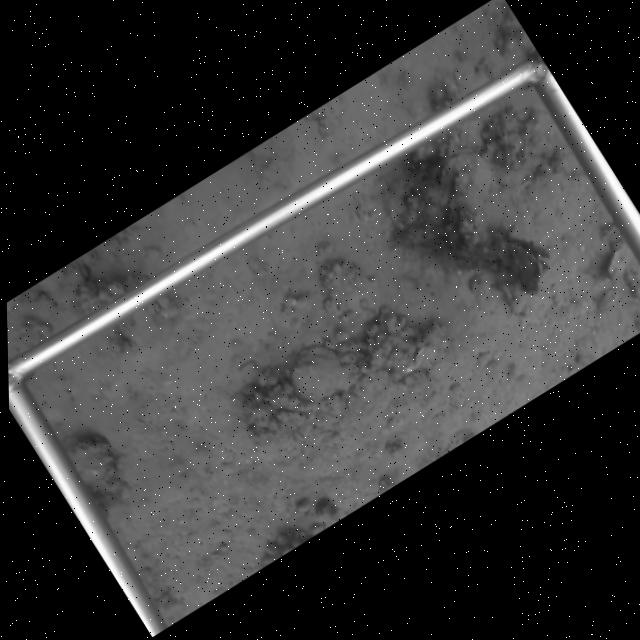Oyster-Closed: (606, 244, 629, 280)
Oyster-Indeterminate: (436, 150, 496, 257), (287, 342, 367, 403), (66, 431, 135, 499), (491, 240, 546, 295)
